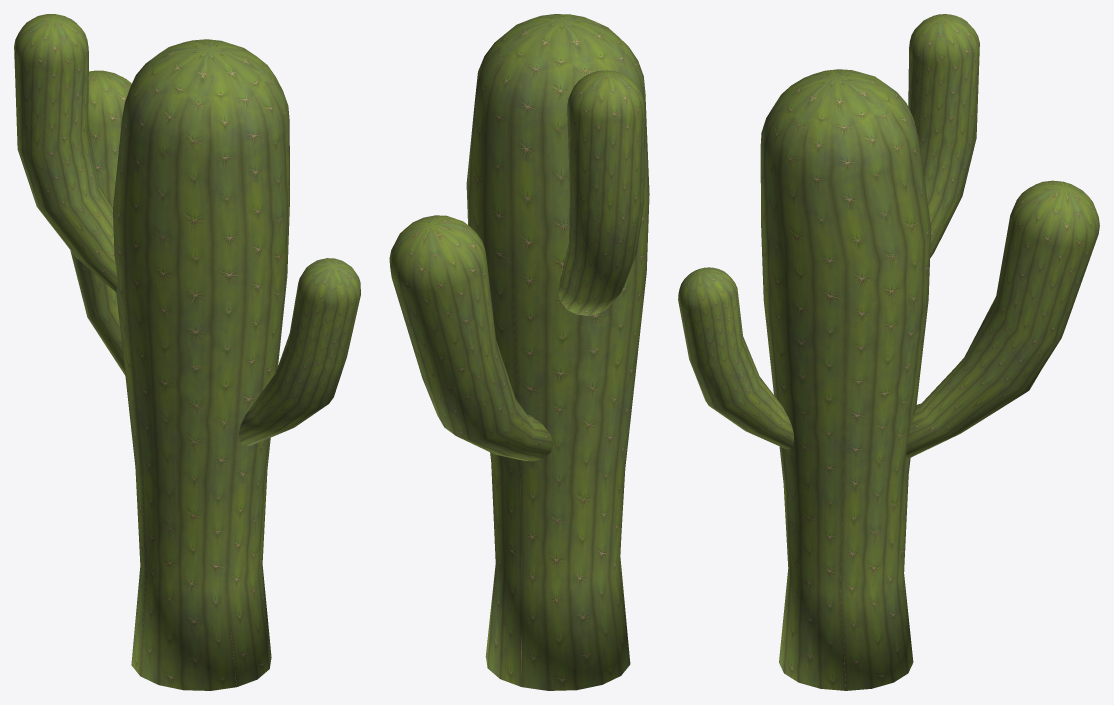
The model's file is cactus_dr.glb.
3 renders of one model, left to right at view 1: azimuth 30°, elevation 25°; view 2: azimuth 150°, elevation 25°; view 3: azimuth 270°, elevation 25°, orthographic. The views are drawn at different scales.
Parts seen in each view (by area): view 1: Object_2; view 2: Object_2; view 3: Object_2.
Boxes of the visible parts, bbox=[...] form: Object_2: bbox=[14, 14, 360, 690]; Object_2: bbox=[389, 14, 649, 690]; Object_2: bbox=[678, 14, 1099, 690].
Size of the model in its own units: 4.36 by 12.28 by 7.83.
Materials: 1 (1 with a texture image).
